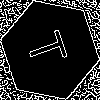T: (25, 25, 76, 69)
